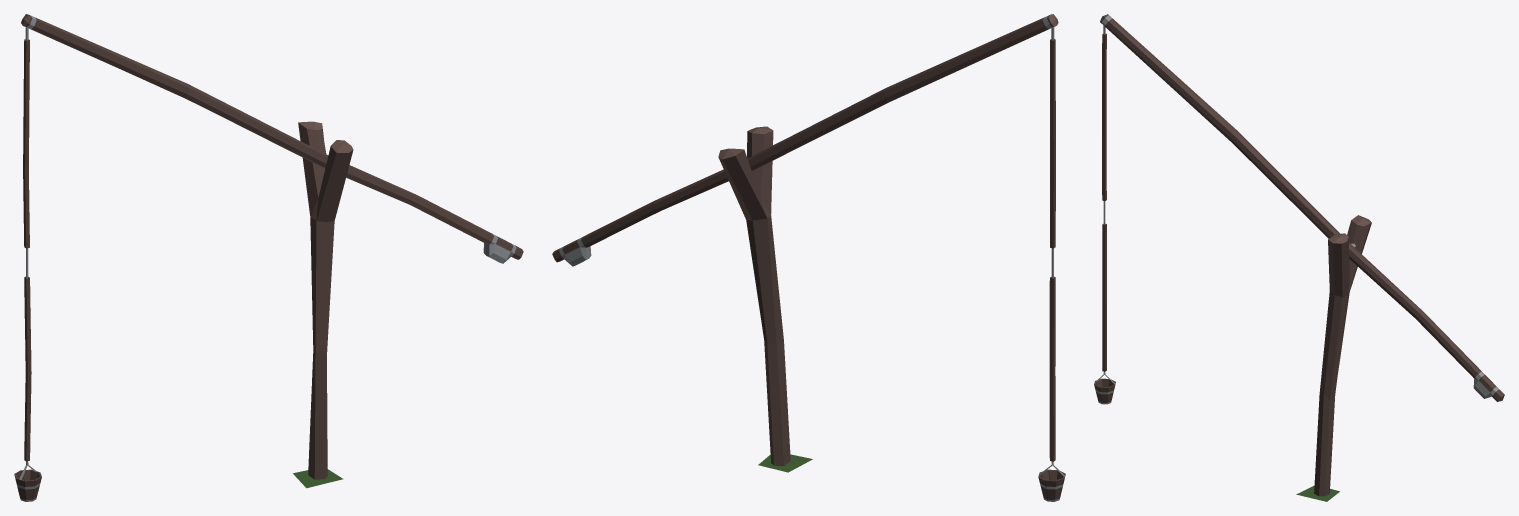
The model's file is SM_Shadoof.fbx.
The picture shows the model from 3 angles, left to right: view 1: azimuth 30°, elevation 25°; view 2: azimuth 150°, elevation 25°; view 3: azimuth 330°, elevation 25°; orthographic projection. The views are drawn at different scales.
Parts seen in each view (by area): view 1: SM_Shadoof; view 2: SM_Shadoof; view 3: SM_Shadoof.
Boxes of the visible parts, x1,y1,x2,y2 form: SM_Shadoof: (14, 14, 523, 501); SM_Shadoof: (552, 14, 1065, 501); SM_Shadoof: (1094, 14, 1504, 501).
Bounding box in the file's own units: 785 × 773 × 122.
Materials: 1 (1 with a texture image).
